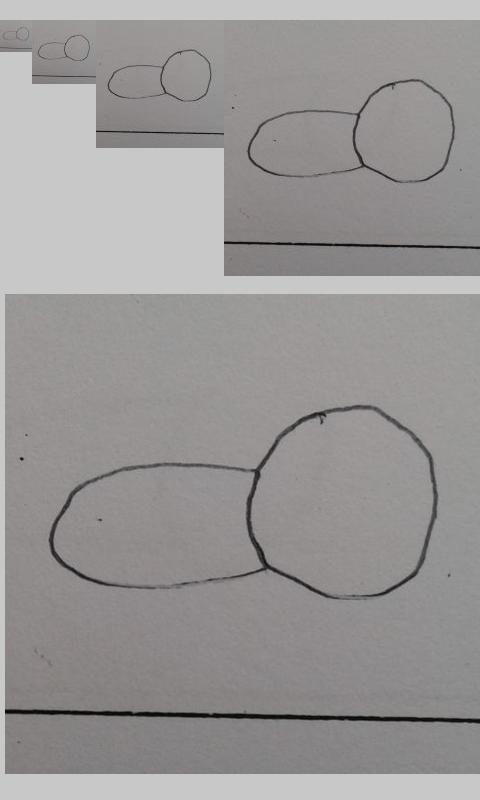switch: (48, 404, 440, 601), (247, 78, 455, 184), (107, 49, 212, 102), (37, 34, 91, 62), (2, 26, 30, 41)
